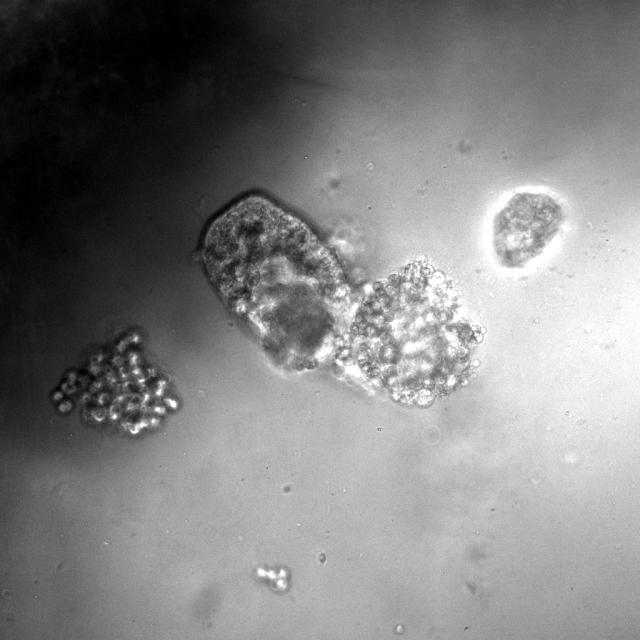organoid: (200, 192, 483, 406), (51, 328, 179, 435), (493, 192, 563, 268), (254, 564, 291, 594)
